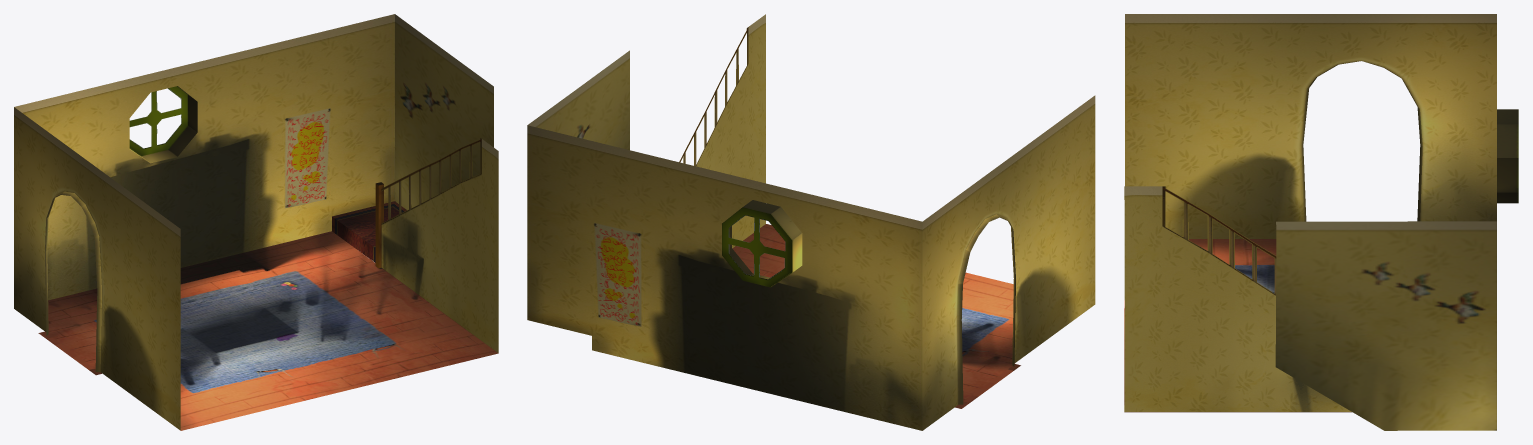
The model's file is lounge_room.dae.
3 renders of one model, left to right at view 1: azimuth 30°, elevation 25°; view 2: azimuth 150°, elevation 25°; view 3: azimuth 270°, elevation 25°, orthographic. The views are drawn at different scales.
Visible parts, largest first — view 1: BackWall, Floor, newleftwall, StairsWall2, RightWall, BackWindow1, Step1, StairPost1; view 2: BackWall, newleftwall, StairsWall2, Floor, RightWall, BackWindow1; view 3: newleftwall, RightWall, StairsWall2, Floor, BackWindow1.
Part boxes in pixels (<box>): BackWall: <box>14,14,394,300</box>; Floor: <box>38,231,498,430</box>; newleftwall: <box>14,107,180,430</box>; StairsWall2: <box>381,137,498,352</box>; RightWall: <box>395,14,493,210</box>; BackWindow1: <box>129,86,197,163</box>; Step1: <box>332,201,406,262</box>; StairPost1: <box>375,182,383,268</box>; BackWall: <box>527,125,922,430</box>; newleftwall: <box>922,95,1095,430</box>; StairsWall2: <box>679,14,765,248</box>; Floor: <box>732,224,1020,408</box>; RightWall: <box>527,50,629,150</box>; BackWindow1: <box>722,200,802,287</box>; newleftwall: <box>1125,14,1496,238</box>; RightWall: <box>1275,221,1496,430</box>; StairsWall2: <box>1124,186,1351,411</box>; Floor: <box>1124,239,1351,412</box>; BackWindow1: <box>1497,109,1518,203</box>.
Bounding box in the file's own units: 28.08 × 14.02 × 22.16.
8 materials, 8 textured.
